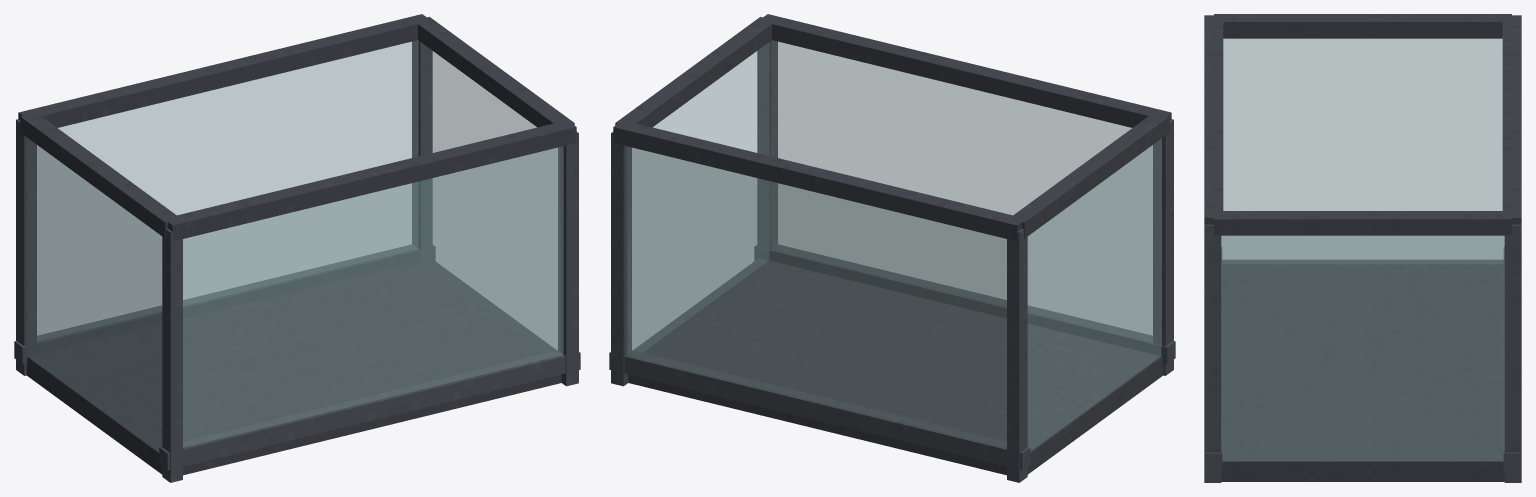
Rendered from aquarium_large.glb.
3 renders of one model, left to right at view 1: azimuth 30°, elevation 25°; view 2: azimuth 150°, elevation 25°; view 3: azimuth 270°, elevation 25°, orthographic. The views are drawn at different scales.
Visible parts, largest first — view 1: block_glass wall (×2), block_glass end (×2), block_bottom frame, block_upper frame (×2), block_corner support (×4), block_reinforced aquarium frame (×2), block_upper end (×2); view 2: block_glass wall (×2), block_glass end (×2), block_bottom frame, block_upper frame (×2), block_corner support (×4), block_reinforced aquarium frame (×2), block_upper end (×2); view 3: block_glass end (×2), block_bottom frame, block_upper end (×2), block_corner support (×2), block_upper frame (×2), block_reinforced aquarium frame (×2).
Boxes of the visible parts, <box> form: block_glass wall (×2): <box>37,40,563,447</box>; block_glass end (×2): <box>28,42,560,450</box>; block_bottom frame: <box>26,258,561,475</box>; block_upper frame (×2): <box>18,14,576,240</box>; block_corner support (×4): <box>16,40,578,482</box>; block_reinforced aquarium frame (×2): <box>14,244,580,470</box>; block_upper end (×2): <box>20,17,574,238</box>; block_glass wall (×2): <box>626,40,1152,447</box>; block_glass end (×2): <box>628,42,1161,450</box>; block_bottom frame: <box>628,258,1163,475</box>; block_upper frame (×2): <box>613,14,1171,241</box>; block_corner support (×4): <box>611,40,1173,482</box>; block_reinforced aquarium frame (×2): <box>609,244,1175,470</box>; block_upper end (×2): <box>615,17,1169,238</box>; block_glass end (×2): <box>1221,38,1504,460</box>; block_bottom frame: <box>1221,260,1504,481</box>; block_upper end (×2): <box>1214,14,1511,235</box>; block_corner support (×2): <box>1204,224,1521,482</box>; block_upper frame (×2): <box>1204,15,1521,224</box>; block_reinforced aquarium frame (×2): <box>1205,247,1520,470</box>.
Size of the model in its own units: 1.83 by 1.09 by 1.19.
Materials: 2 (2 with a texture image).
